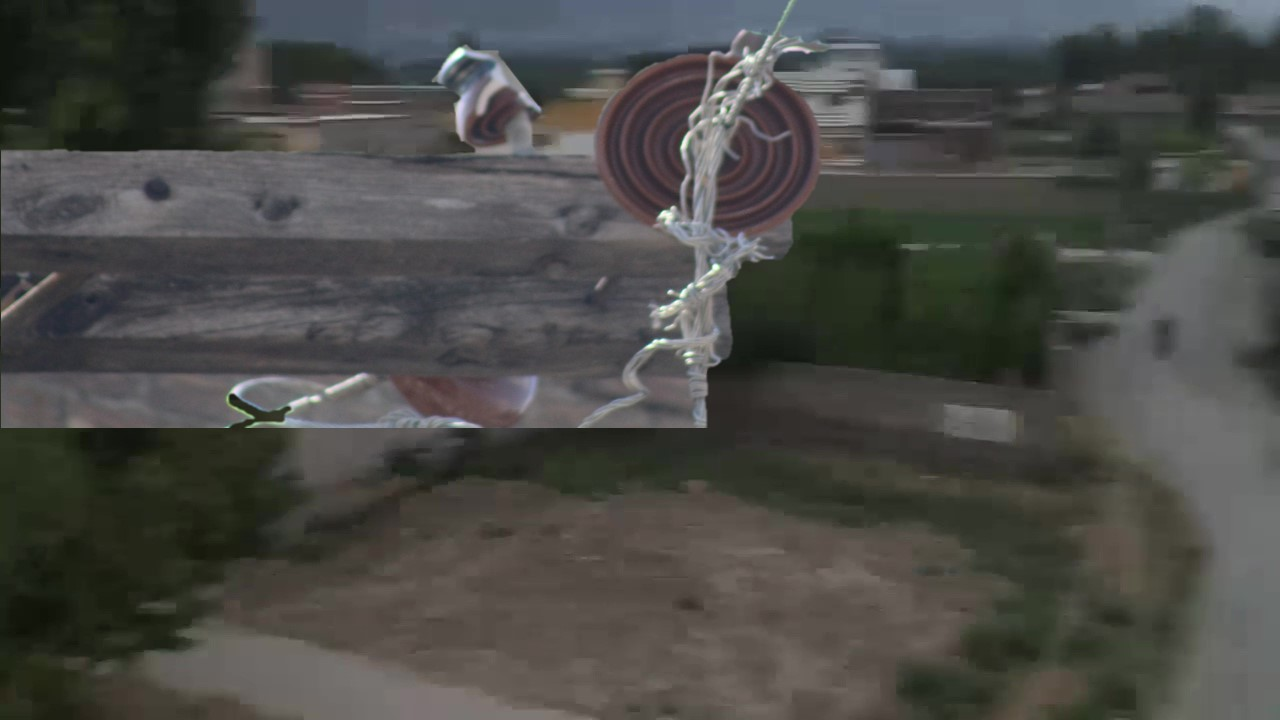defect_pin: (428, 38, 551, 162)
insulator_disc: (595, 41, 832, 238)
